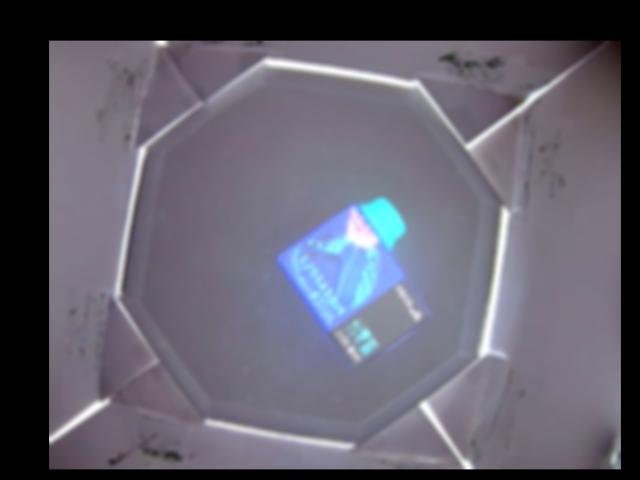Bottle: (277, 194, 430, 370)
